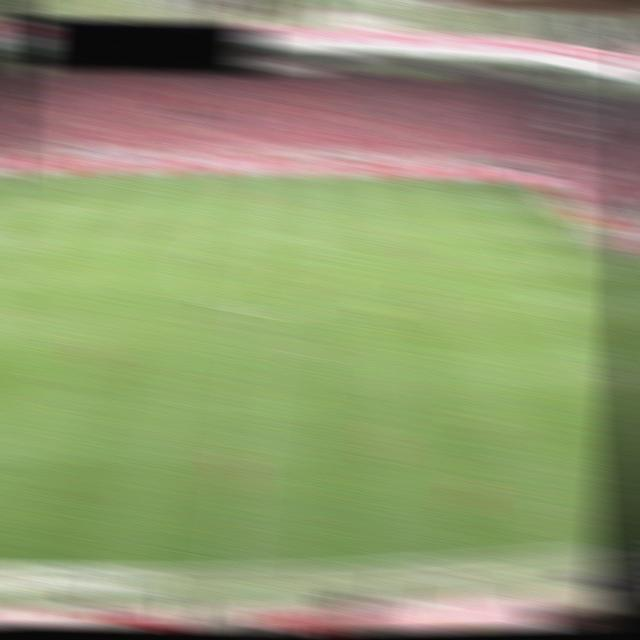bigarea_bottom_inner: (599, 377, 635, 397)
bigarea_top_inner: (465, 202, 502, 219), (49, 195, 82, 212)
bigarea_top_outter: (550, 206, 582, 223)
bottom_arc_area_intersection: (540, 295, 575, 317)
corner: (3, 167, 36, 187), (516, 178, 548, 194)
halfcircle_bottom: (246, 305, 279, 322)
halfcircle_top: (255, 226, 289, 243)
midline_bottom_intersection: (211, 556, 251, 580)
midline_top_intersection: (263, 168, 296, 184)
smallarea_top_inner: (554, 236, 587, 252)
smallarea_top_outter: (582, 236, 615, 252)
top_arc_area_intersection: (494, 235, 529, 257), (9, 231, 45, 251)
